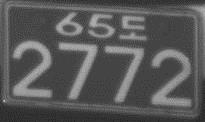2: (150, 47, 192, 108), (11, 39, 53, 98)
5: (87, 12, 115, 39)
6: (55, 10, 82, 37)
7: (103, 43, 145, 104), (57, 41, 99, 99)
도: (118, 14, 147, 41)
